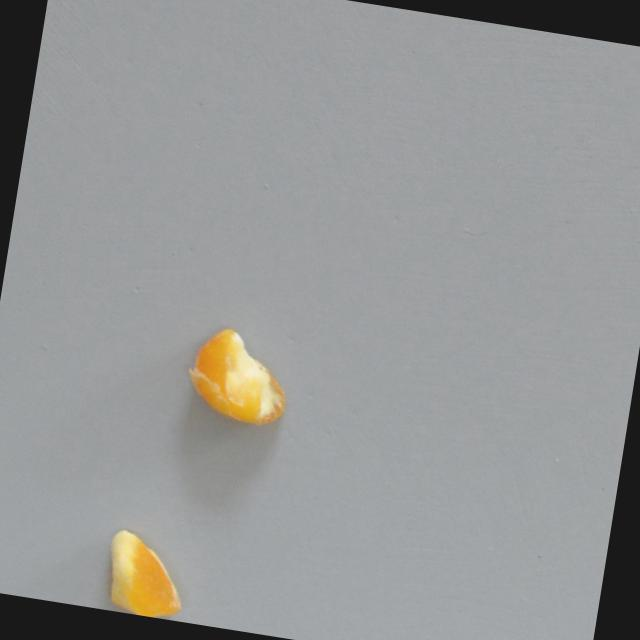pelicula: (181, 321, 303, 437), (90, 511, 208, 624)
